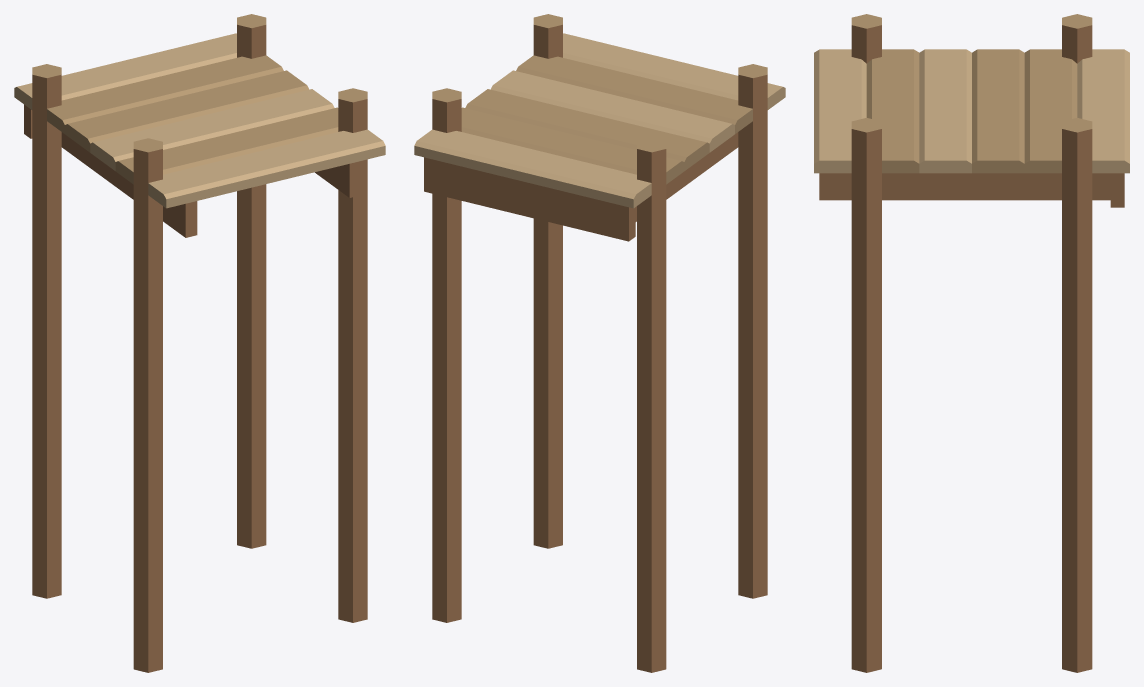
The model's file is Dock.fbx.
3 views of the same model, side by side, from view 1: azimuth 30°, elevation 25°; view 2: azimuth 150°, elevation 25°; view 3: azimuth 270°, elevation 25° (orthographic). The views are drawn at different scales.
Visible parts, largest first — view 1: Dock; view 2: Dock; view 3: Dock.
Part boxes in pixels (bbox=[...]): Dock: bbox=[14, 14, 385, 672]; Dock: bbox=[414, 14, 785, 672]; Dock: bbox=[814, 14, 1129, 672].
Size of the model in its own units: 4 by 8.5 by 4.5.
